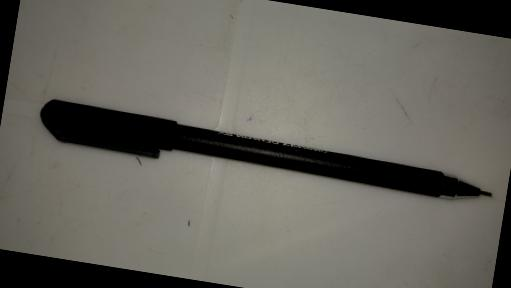pen: (37, 97, 499, 213)
